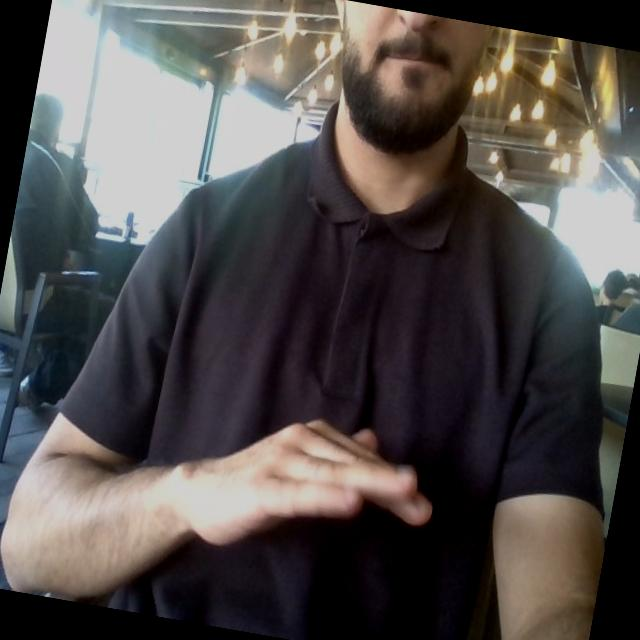Hand: (179, 420, 431, 544)
